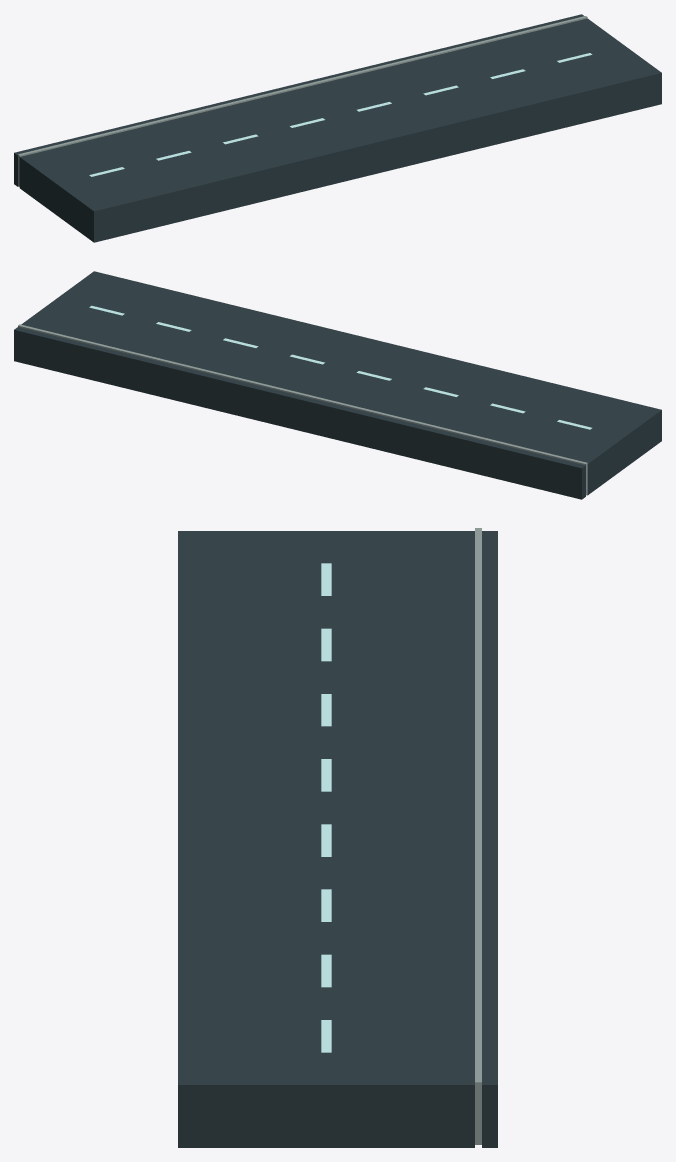
The model's file is Path1.fbx.
3 views of the same model, one above another, from view 1: azimuth 30°, elevation 25°; view 2: azimuth 150°, elevation 25°; view 3: azimuth 270°, elevation 25° (orthographic). The views are drawn at different scales.
Parts seen in each view (by area): view 1: Cube.003; view 2: Cube.003; view 3: Cube.003.
Part boxes in pixels (x1,y1,x2,y2): Cube.003: [14, 14, 661, 242]; Cube.003: [14, 271, 661, 499]; Cube.003: [178, 528, 497, 1147].
Bounding box in the file's own units: 1270 × 69.88 × 310.
1 material, 1 textured.
